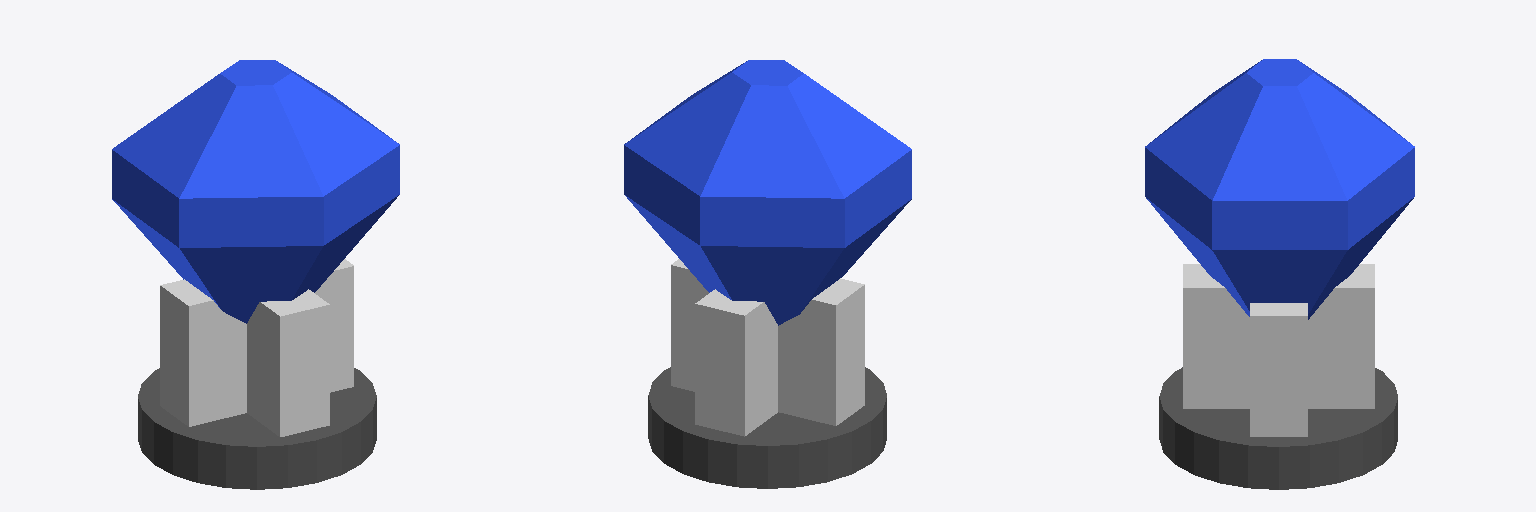
Rendered from gems_sapphire_6.obj.
3 renders of one model, left to right at view 1: azimuth 30°, elevation 25°; view 2: azimuth 150°, elevation 25°; view 3: azimuth 270°, elevation 25°, orthographic.
Parts seen in each view (by area): view 1: mergedBlocks; view 2: mergedBlocks; view 3: mergedBlocks.
Part boxes in pixels (bbox=[...]): mergedBlocks: bbox=[112, 60, 399, 489]; mergedBlocks: bbox=[624, 60, 911, 488]; mergedBlocks: bbox=[1145, 59, 1414, 489].
Size of the model in its own units: 1.07 by 1.69 by 1.13.